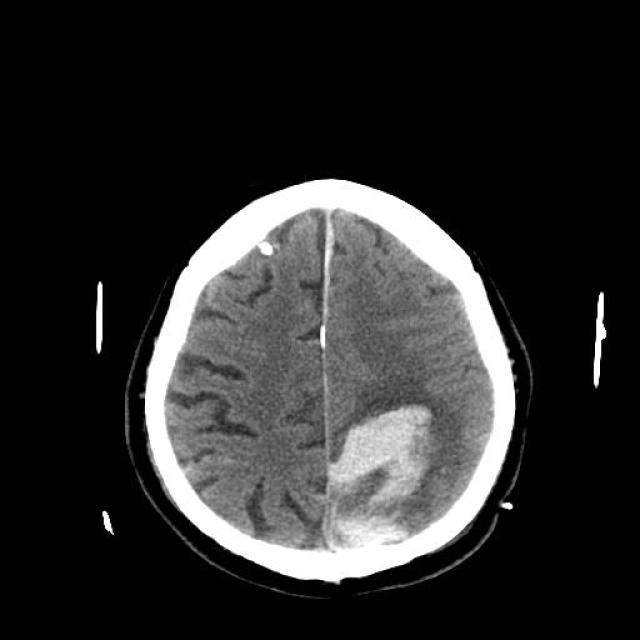Intraparenchymal: (328, 394, 468, 574)
Subdural: (288, 199, 368, 326)
